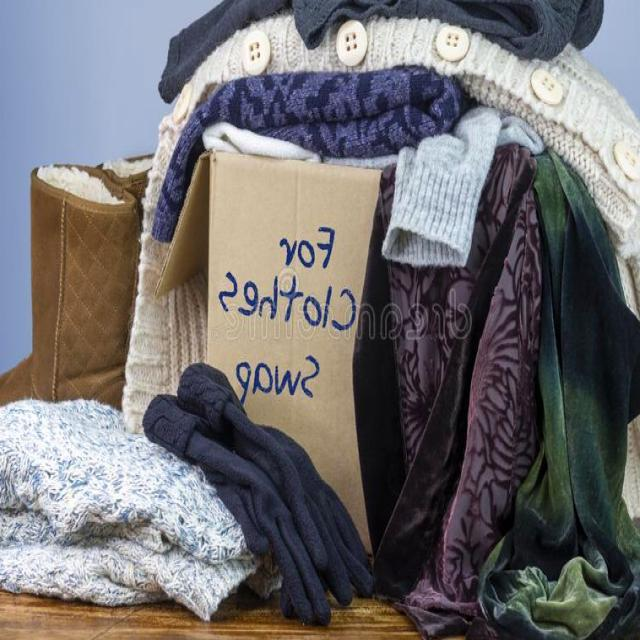clothes: (353, 0, 640, 640), (130, 0, 609, 240), (0, 353, 355, 640)
